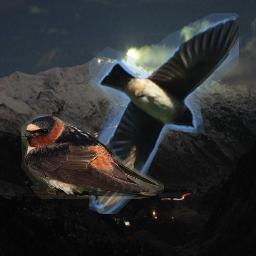Swallow: (89, 13, 239, 214), (21, 114, 164, 199)
